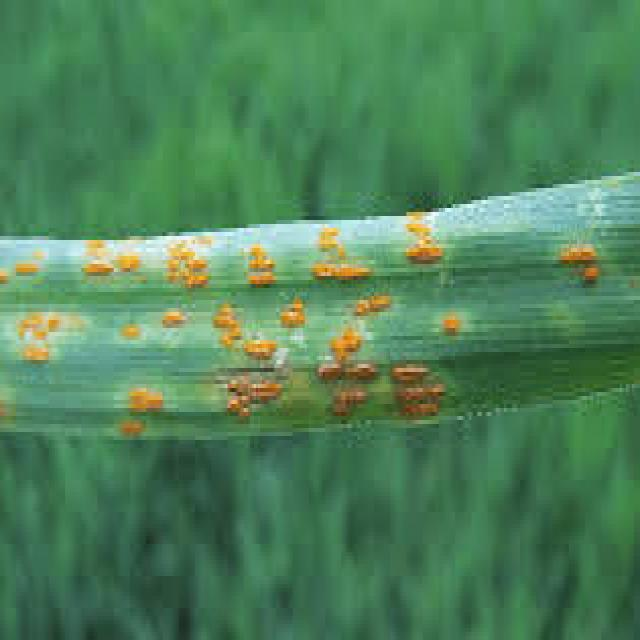wheat-stemrust: (0, 172, 640, 448)
